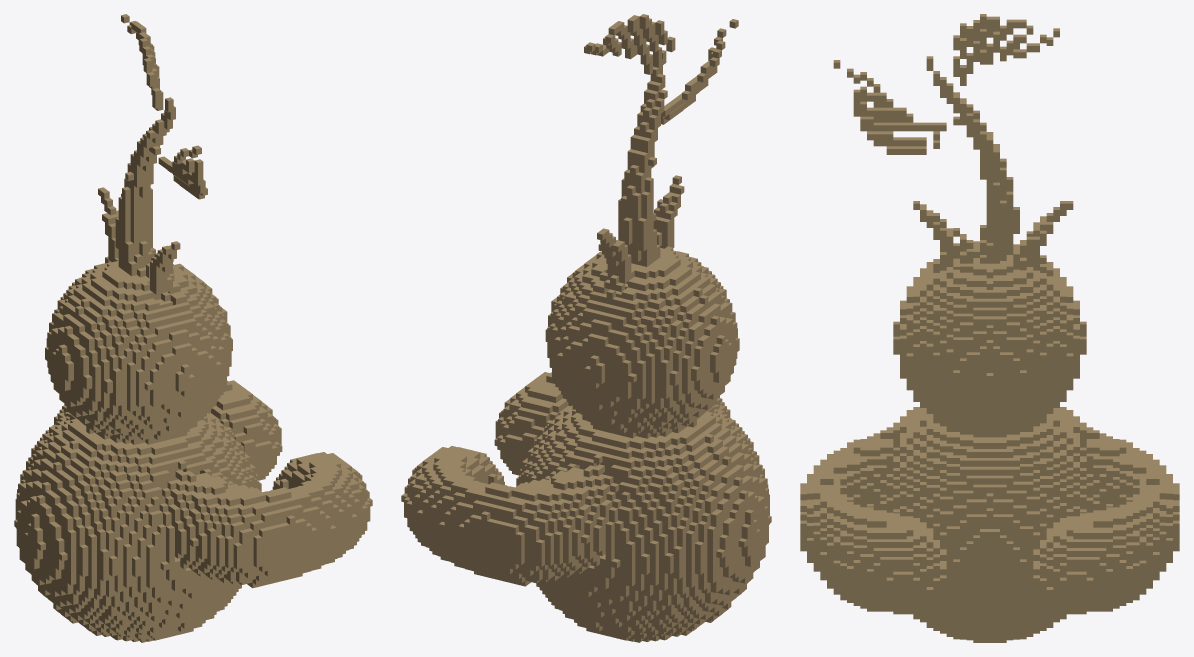
The model's file is LilGuy.fbx.
3 renders of one model, left to right at view 1: azimuth 30°, elevation 25°; view 2: azimuth 150°, elevation 25°; view 3: azimuth 270°, elevation 25°, orthographic. The views are drawn at different scales.
Parts seen in each view (by area): view 1: LilGuy; view 2: LilGuy; view 3: LilGuy.
Boxes of the visible parts, x1,y1,x2,y2 form: LilGuy: [14, 14, 372, 642]; LilGuy: [401, 14, 771, 642]; LilGuy: [800, 14, 1179, 642].
Size of the model in its own units: 113 by 225 by 126.
